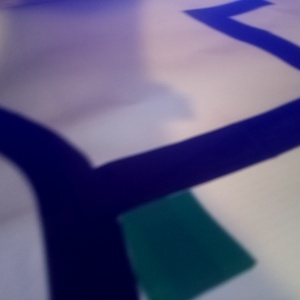bottom_left: (8, 32, 90, 62)
